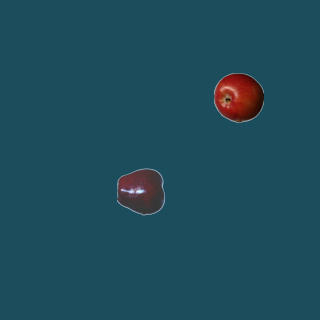Apple Braeburn: (213, 72, 263, 122)
Apple Red Delicious: (116, 166, 166, 216)
